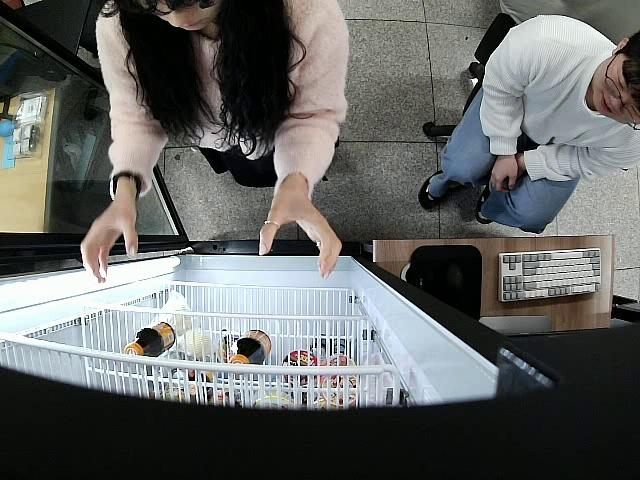00_hand: (257, 200, 343, 279), (77, 206, 140, 284), (487, 154, 519, 194)
